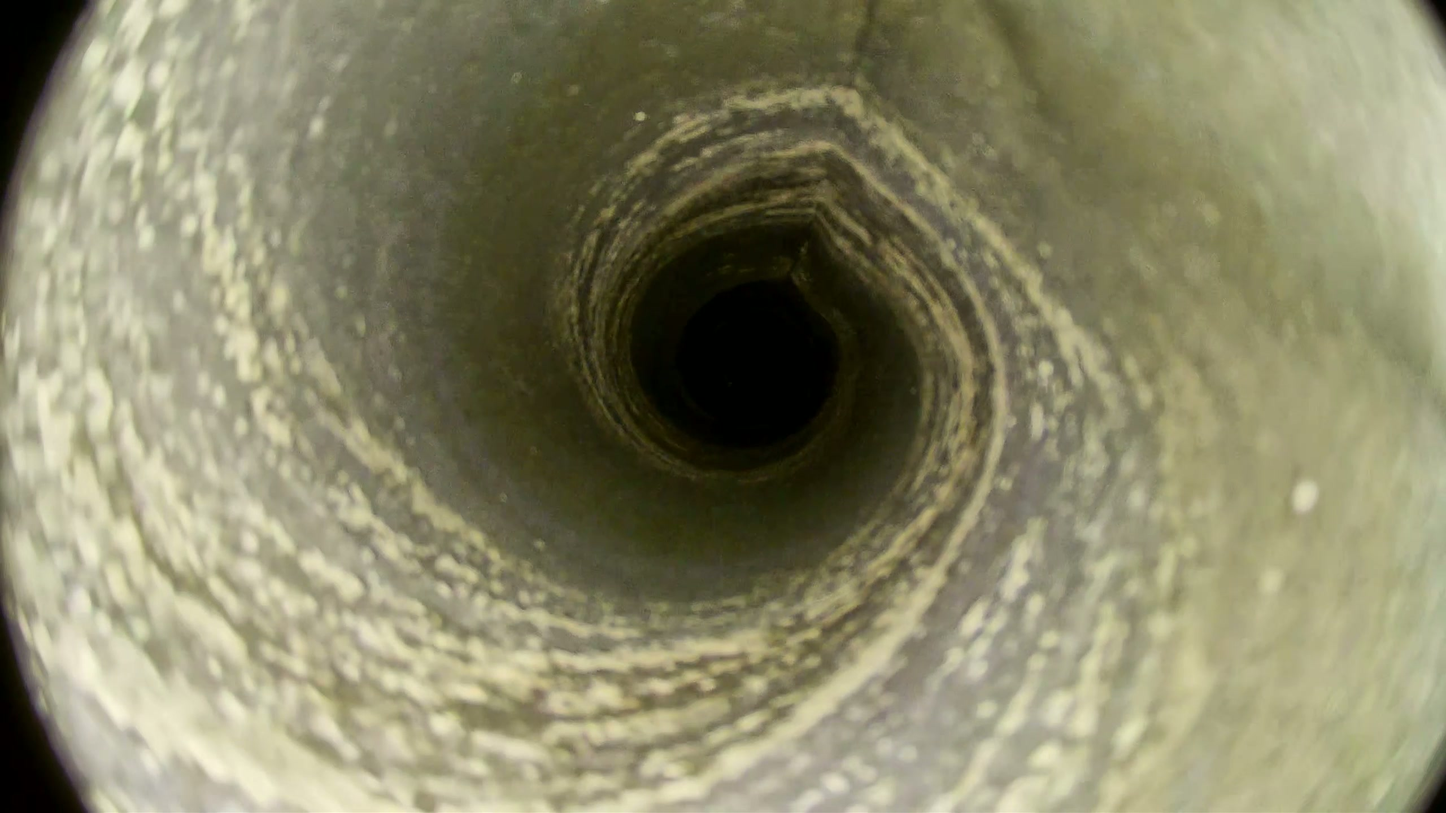hole: (679, 285, 838, 429)
